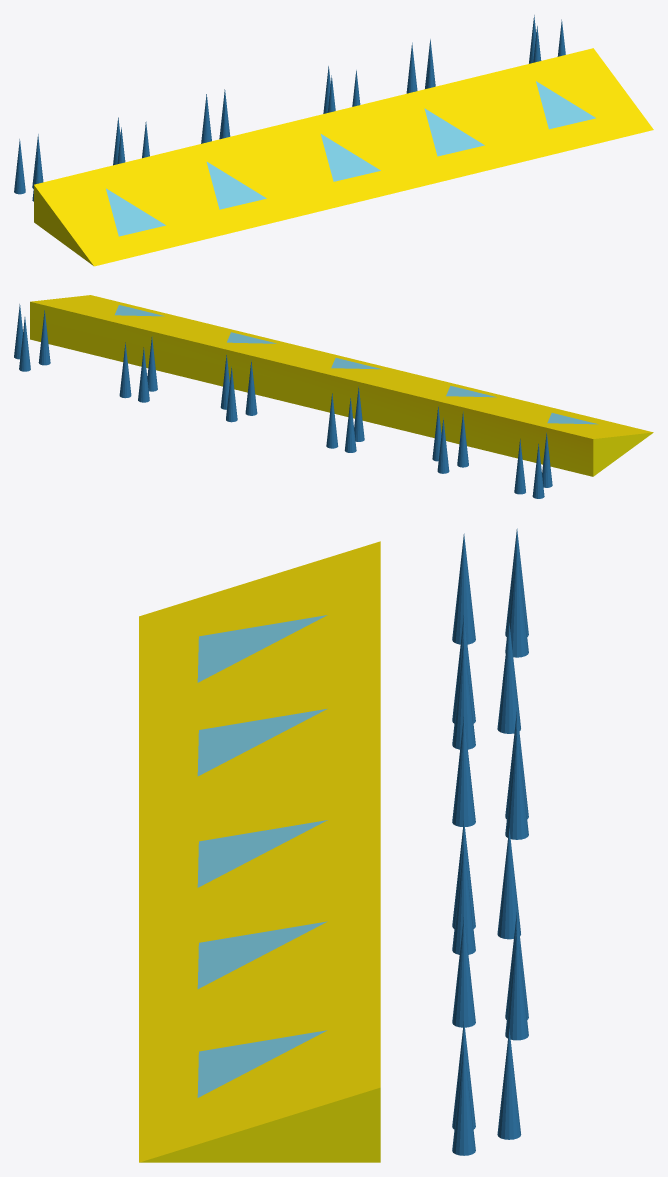
The model's file is Diken.fbx.
3 renders of one model, top to bottom at view 1: azimuth 30°, elevation 25°; view 2: azimuth 150°, elevation 25°; view 3: azimuth 270°, elevation 25°, orthographic. The views are drawn at different scales.
Visible parts, largest first — view 1: Jump, Diken; view 2: Jump, Diken; view 3: Jump, Diken.
Part boxes in pixels (x1,y1,x2,y2): Jump: (34,48,653,266); Diken: (14,15,565,201); Jump: (30,295,653,476); Diken: (14,304,552,498); Jump: (139,541,380,1162); Diken: (452,528,528,1155).
Bounding box in the file's own units: 347 × 32.21 × 105.
